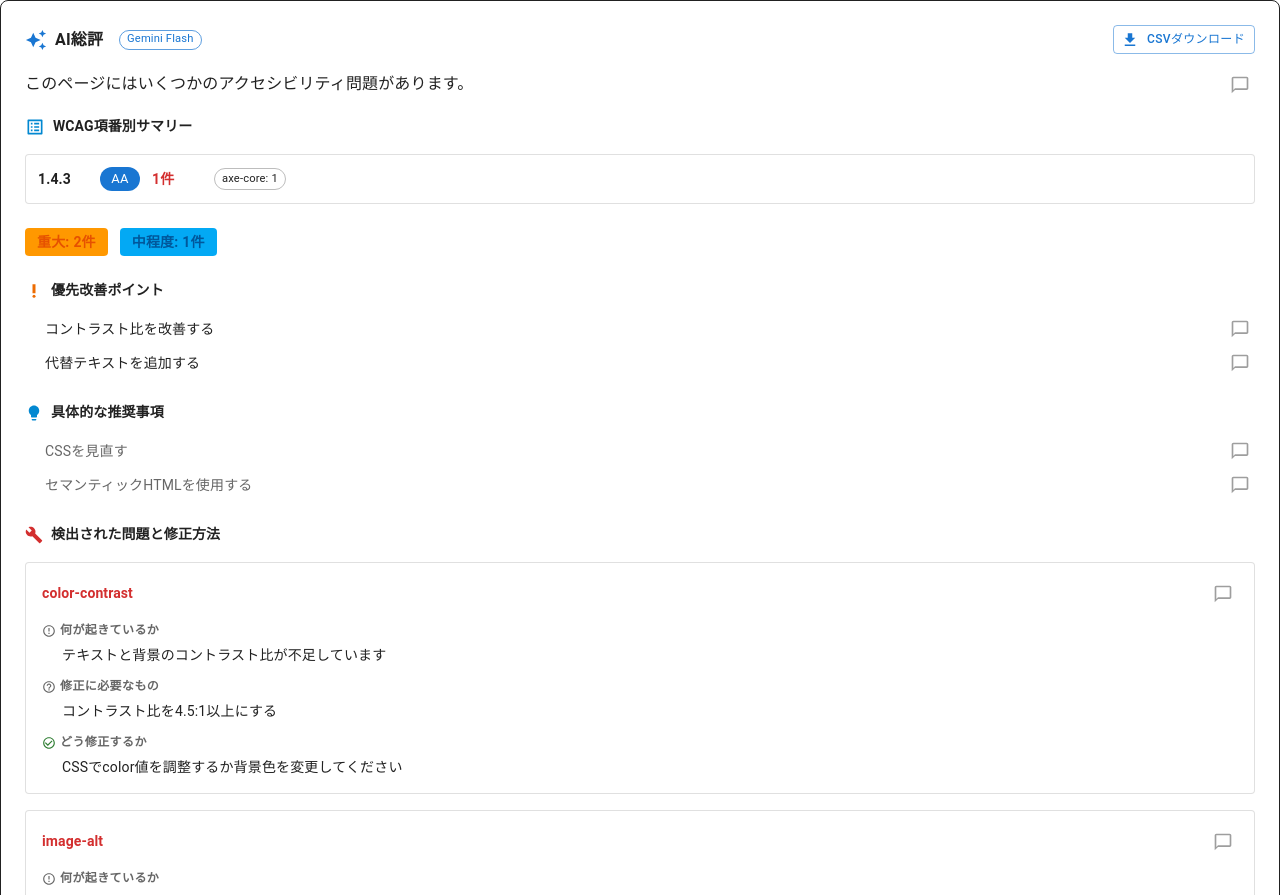
Scenario: ImprovementList › Task 6.1: Snackbar通知の統合 › ダウンロードエラー時、エラー通知Snackbarが表示される
Click the button "CSVダウンロード" at {"x": 1184, "y": 40}, box [1113, 25, 1255, 54]
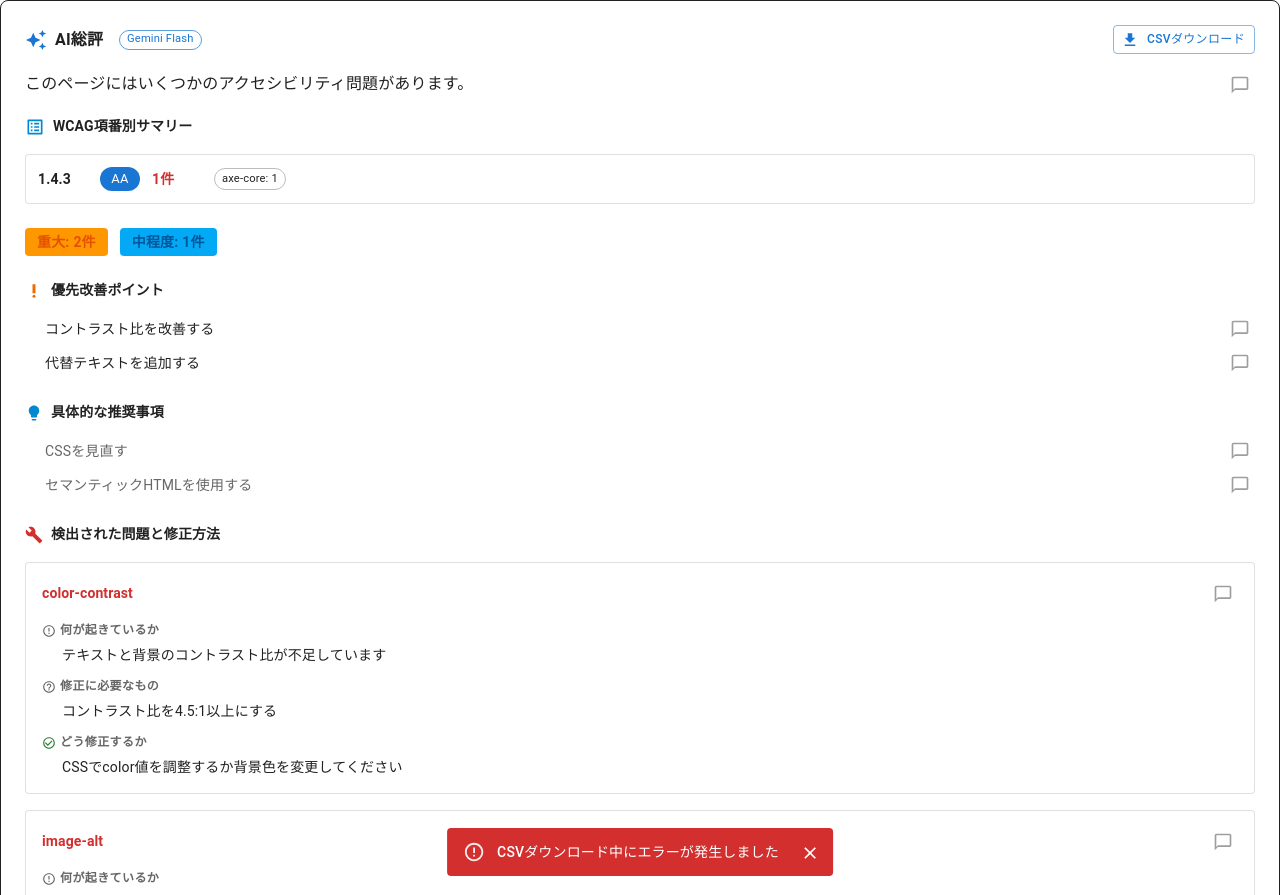
Now the message "CSVダウンロード中にエラーが発生しました" is shown, box [447, 828, 833, 876]
Now the text "CSVダウンロード中にエラーが発生しました" is shown, box [497, 844, 779, 860]
